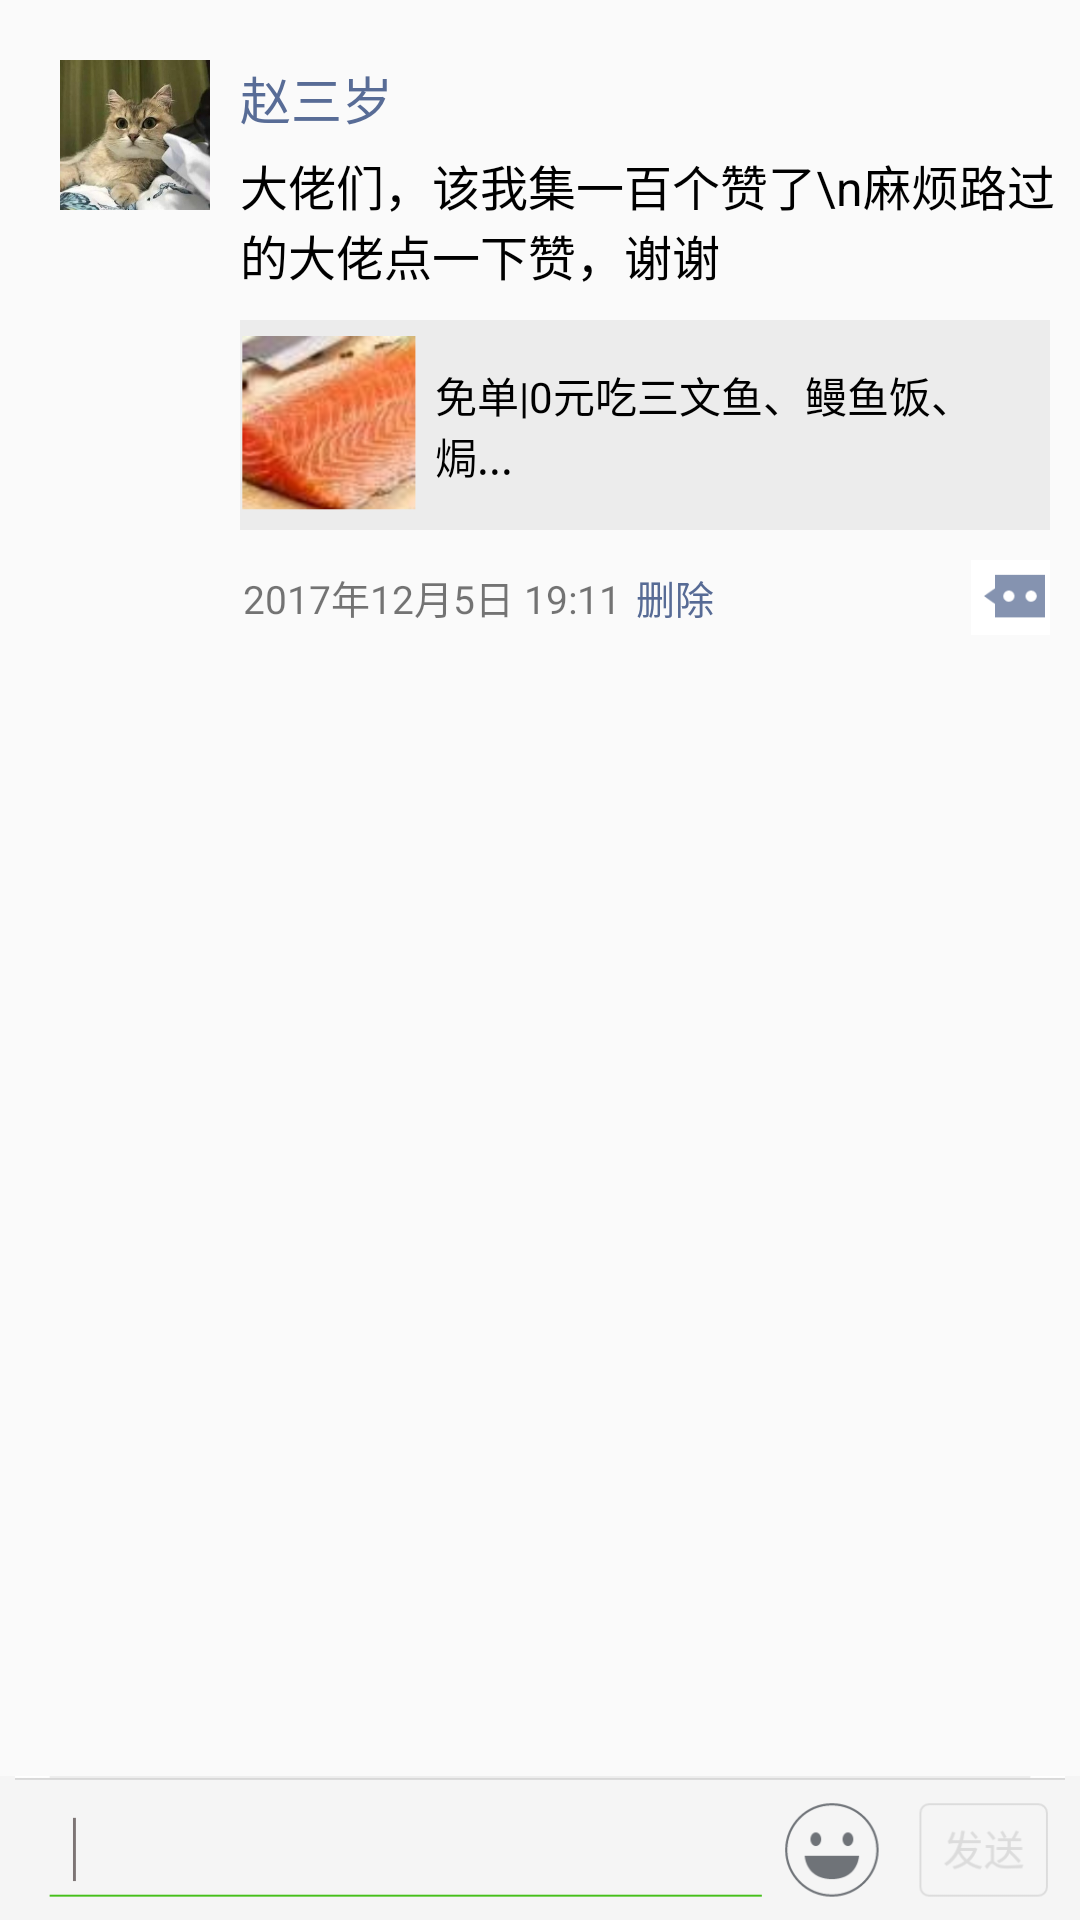

Where to tap for icons on this 1080×1920 app screen, as [x,y]:
cat: [135,135]
meat: [329,423]
